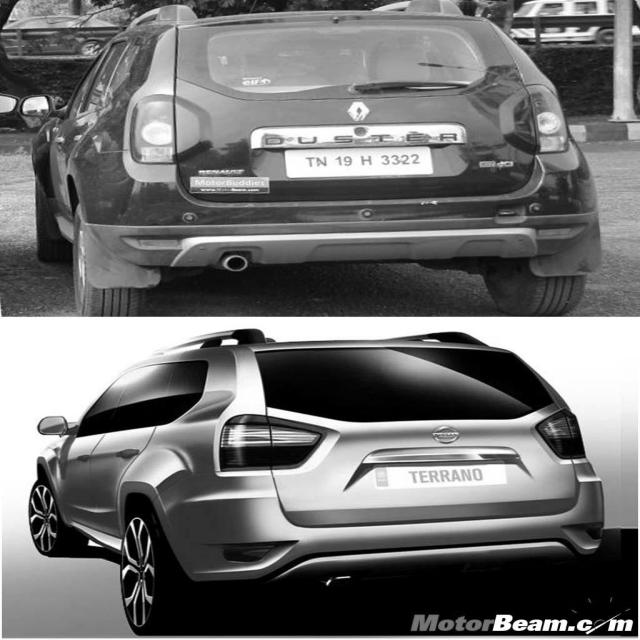car: (4, 321, 619, 626), (64, 12, 600, 312)
license-plate: (344, 446, 546, 506), (286, 138, 442, 185)
